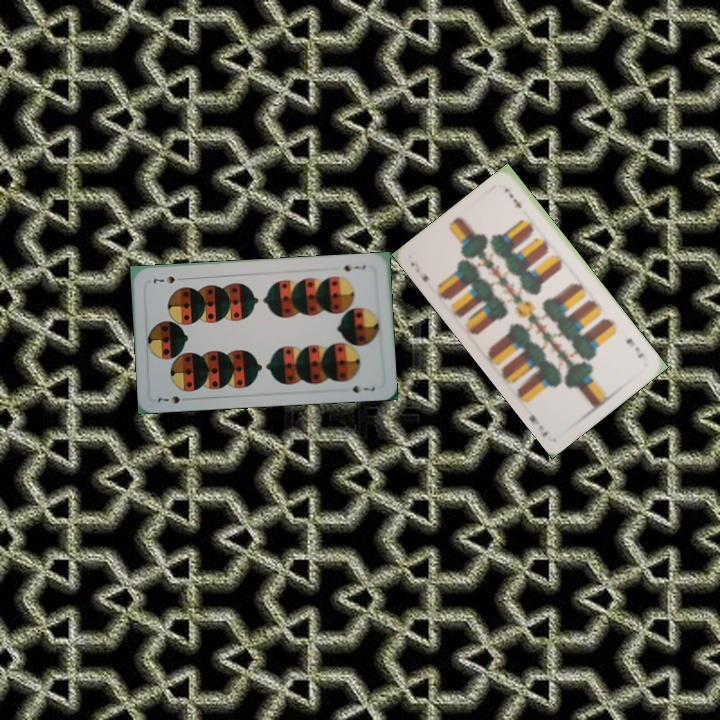E7: (406, 258, 432, 285), (622, 334, 646, 361)
S7: (153, 392, 182, 406), (340, 261, 368, 274)
